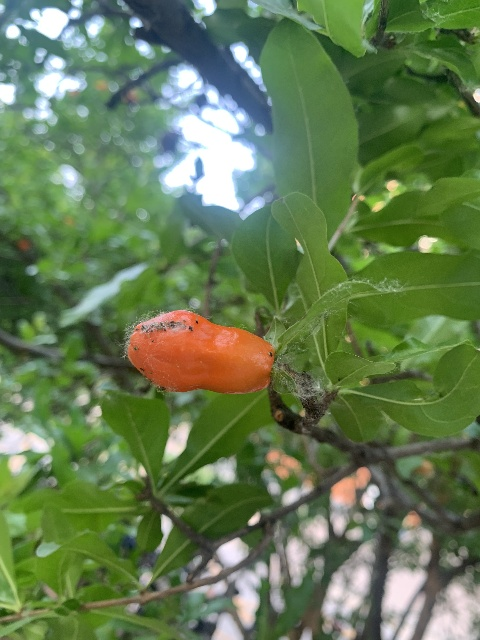bud: (124, 310, 275, 394)
